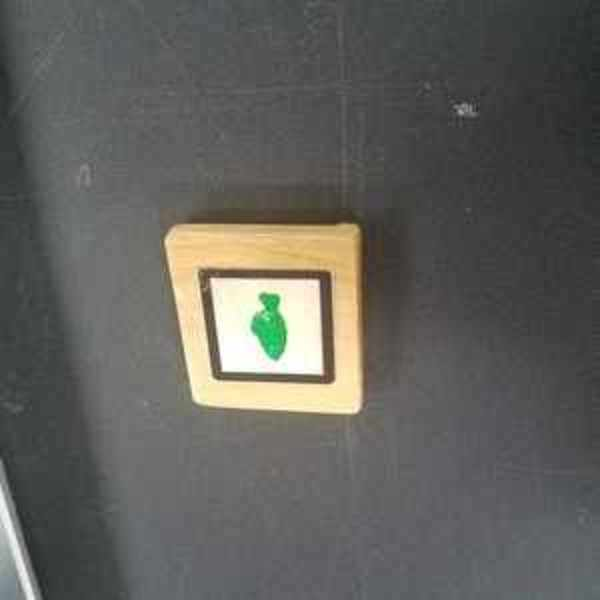Fish Tiles: (198, 270, 336, 384)
